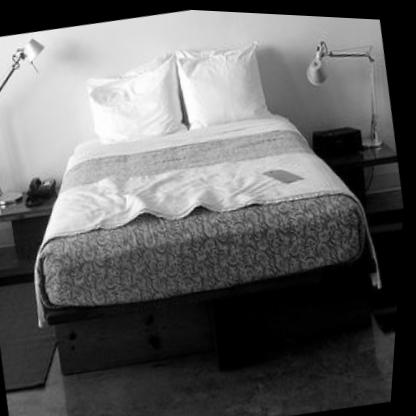Bed: (37, 39, 382, 373)
